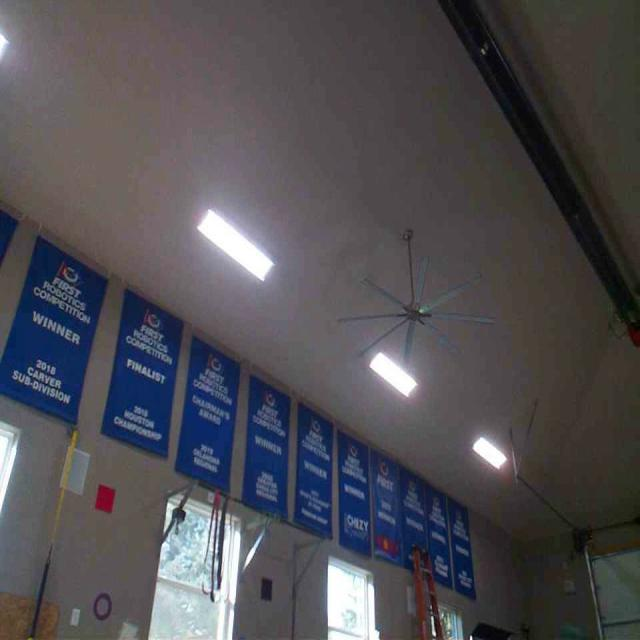ring_purple: (91, 592, 113, 620)
square_black: (260, 576, 273, 600)
square_red: (92, 483, 114, 512)
